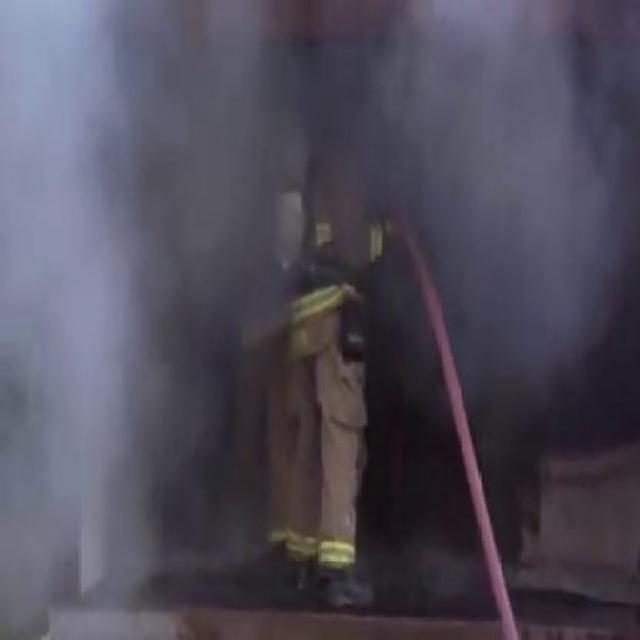smoke: (6, 6, 229, 566), (410, 15, 630, 382)
